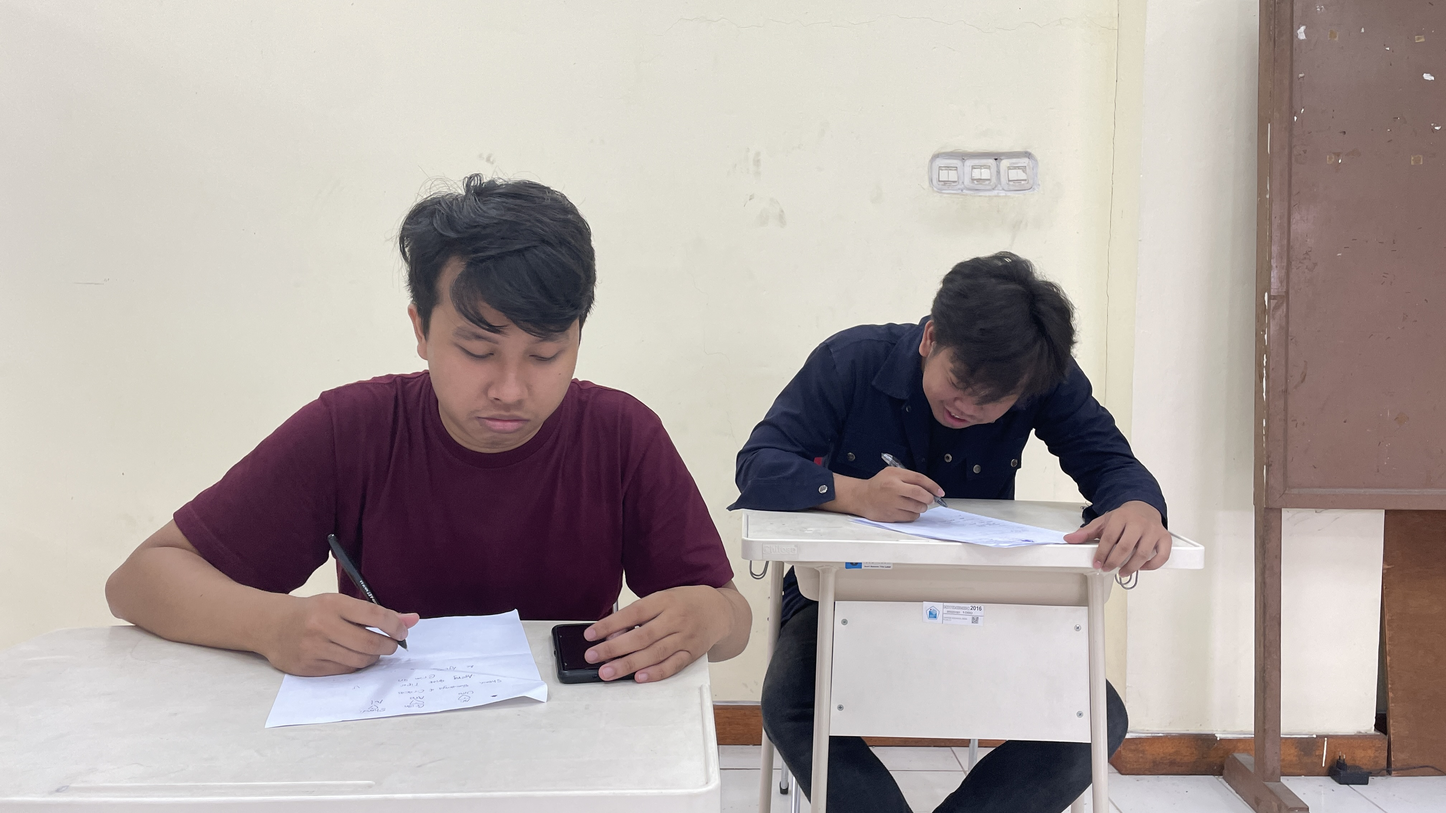phone: (548, 619, 616, 683)
